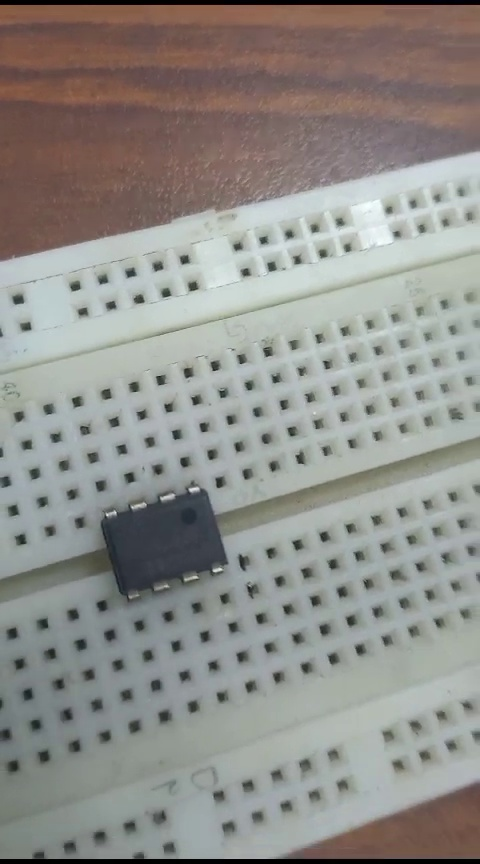IC: (95, 484, 227, 603)
